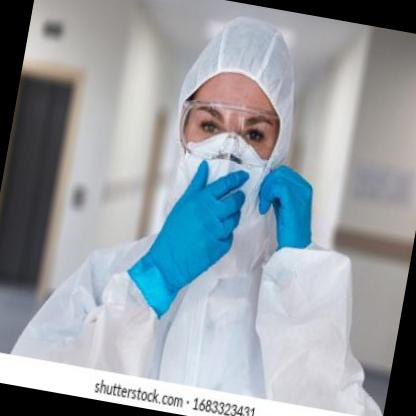Gloves: (119, 149, 250, 330), (248, 160, 326, 255)
